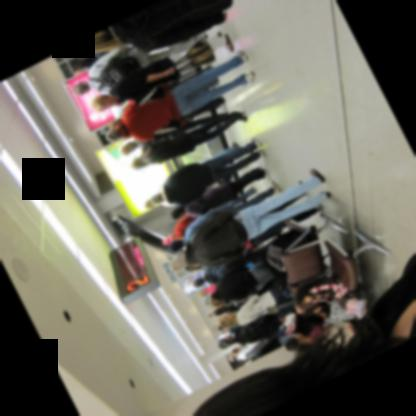backpack: (88, 53, 141, 91), (202, 253, 247, 280)
handbag: (169, 33, 216, 70), (266, 227, 301, 269), (322, 298, 355, 325), (238, 304, 277, 318)
suitcase: (264, 226, 300, 270)
